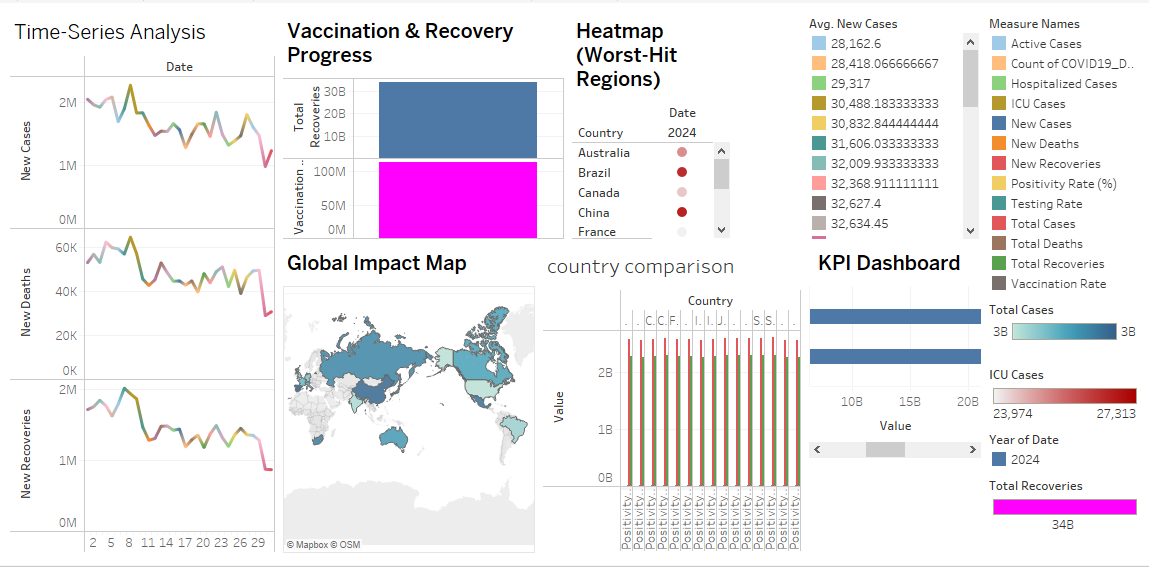

The dashboard page shown, as its layout file describes it:
{"tool":"tableau","page":{"name":"Dashboard 1","canvas":[1000,1000],"units":"permille","ordinal":0},"visuals":[{"type":"worksheet","title":"Sheet 2","mark":"Automatic","rows":["New Cases","New Deaths","New Recoveries"],"cols":["Date"],"box":[6.7,14.2,245.7,971.5]},{"type":"worksheet","title":"Sheet 6","mark":"Bar","rows":["Total Recoveries","Vaccination Rate"],"box":[252.4,14.2,243.4,412.1]},{"type":"worksheet","title":"Sheet 5","mark":"Circle","rows":["Country"],"cols":["Date"],"box":[495.8,14.2,219.1,412.1]},{"type":"legend","title":"Sheet 2","param":"[federated.0gedp501fve78q14lbc7g1xogdly].[avg:New Cases:ok]","box":[714.9,14.2,144.6,412.1]},{"type":"legend","title":"Sheet 3","param":"[federated.0gedp501fve78q14lbc7g1xogdly].[:Measure Names]","box":[859.4,14.2,133.9,508.9]},{"type":"worksheet","title":"Sheet 4","mark":"Multipolygon","box":[252.4,426.3,218.6,559.5]},{"type":"worksheet","title":"Sheet 3","mark":"Automatic","cols":["Country"],"box":[471,426.3,243.9,559.5]},{"type":"worksheet","title":"Sheet 1","mark":"Automatic","box":[714.9,426.3,144.6,559.5]},{"type":"legend","title":"Sheet 4","param":"[federated.0gedp501fve78q14lbc7g1xogdly].[sum:Total Cases:qk]","box":[859.4,523.1,133.9,115.7]},{"type":"legend","title":"Sheet 5","param":"[federated.0gedp501fve78q14lbc7g1xogdly].[sum:ICU Cases:qk]","box":[859.4,638.8,133.9,115.7]},{"type":"legend","title":"Sheet 6","param":"[federated.0gedp501fve78q14lbc7g1xogdly].[yr:Date:ok]","box":[859.4,754.4,133.9,81.9]},{"type":"legend","title":"Sheet 6","param":"[federated.0gedp501fve78q14lbc7g1xogdly].[sum:Total Recoveries:qk]","box":[859.4,836.3,133.9,115.7]}]}

Visuals, with their boxes on the dashboard's canvas, which has no fixed pixel size, in thousandths of its width and height (x1, y1, x2, y2). These are canvas units, not pixel positions in the 1149x567 screenshot, which may show the page scaled, cropped or inside an application window:
"Sheet 2" worksheet: [left=7, top=14, right=252, bottom=986]
"Sheet 6" worksheet (Bar marks): [left=252, top=14, right=496, bottom=426]
"Sheet 5" worksheet (Circle marks): [left=496, top=14, right=715, bottom=426]
"Sheet 2" legend: [left=715, top=14, right=860, bottom=426]
"Sheet 3" legend: [left=859, top=14, right=993, bottom=523]
"Sheet 4" worksheet (Multipolygon marks): [left=252, top=426, right=471, bottom=986]
"Sheet 3" worksheet: [left=471, top=426, right=715, bottom=986]
"Sheet 1" worksheet: [left=715, top=426, right=860, bottom=986]
"Sheet 4" legend: [left=859, top=523, right=993, bottom=639]
"Sheet 5" legend: [left=859, top=639, right=993, bottom=754]
"Sheet 6" legend: [left=859, top=754, right=993, bottom=836]
"Sheet 6" legend: [left=859, top=836, right=993, bottom=952]
